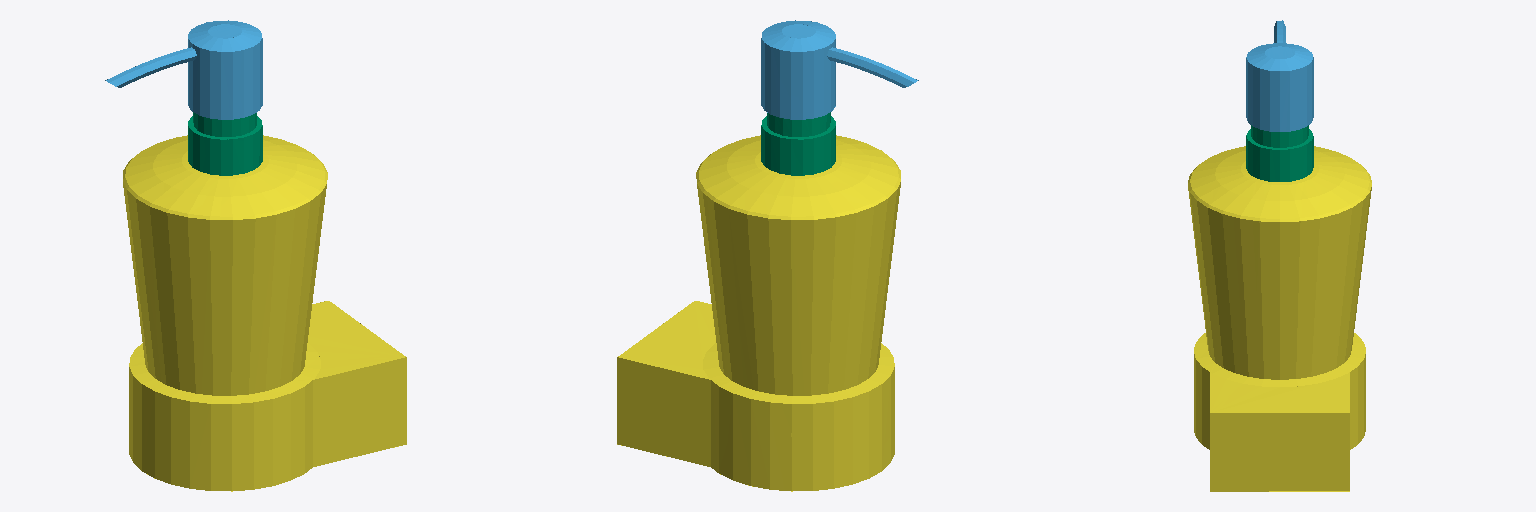
The robot description file, URDF, robot "partnet_e6676d26-1fb8-4e3b-a013-5a1d52decc9b":
<?xml version="1.0" ?>
<robot name="partnet_e6676d26-1fb8-4e3b-a013-5a1d52decc9b">
	<link name="base"/>
	<link name="link_0">
		<visual name="pressing_lid-1">
			<origin xyz="0.0023859999999999992 0 -0.054397"/>
			<geometry>
				<mesh filename="textured_objs/original_3.obj"/>
			</geometry>
		</visual>
		<visual name="pressing_lid-1">
			<origin xyz="0.0023859999999999992 0 -0.054397"/>
			<geometry>
				<mesh filename="textured_objs/original_4.obj"/>
			</geometry>
		</visual>
		<collision>
			<origin xyz="0.0023859999999999992 0 -0.054397"/>
			<geometry>
				<mesh filename="textured_objs/original_3.obj"/>
			</geometry>
		</collision>
		<collision>
			<origin xyz="0.0023859999999999992 0 -0.054397"/>
			<geometry>
				<mesh filename="textured_objs/original_4.obj"/>
			</geometry>
		</collision>
	</link>
	<joint name="joint_0" type="continuous">
		<origin xyz="0.0 0 0.0"/>
		<axis xyz="0 1 0"/>
		<child link="link_0"/>
		<parent link="link_0_helper"/>
	</joint>
	<link name="link_1">
		<visual name="head-3">
			<origin xyz="0.002386499999999986 0 -0.054397500000000015"/>
			<geometry>
				<mesh filename="textured_objs/original_6.obj"/>
			</geometry>
		</visual>
		<visual name="head-3">
			<origin xyz="0.002386499999999986 0 -0.054397500000000015"/>
			<geometry>
				<mesh filename="textured_objs/original_5.obj"/>
			</geometry>
		</visual>
		<collision>
			<origin xyz="0.002386499999999986 0 -0.054397500000000015"/>
			<geometry>
				<mesh filename="textured_objs/original_6.obj"/>
			</geometry>
		</collision>
		<collision>
			<origin xyz="0.002386499999999986 0 -0.054397500000000015"/>
			<geometry>
				<mesh filename="textured_objs/original_5.obj"/>
			</geometry>
		</collision>
	</link>
	<joint name="joint_1" type="continuous">
		<origin xyz="0.0 0 0.0"/>
		<axis xyz="0 -1 0"/>
		<child link="link_1"/>
		<parent link="link_1_helper"/>
	</joint>
	<link name="link_2">
		<visual name="base_body-4">
			<origin xyz="0 0 0"/>
			<geometry>
				<mesh filename="textured_objs/original_8.obj"/>
			</geometry>
		</visual>
		<visual name="base_body-4">
			<origin xyz="0 0 0"/>
			<geometry>
				<mesh filename="textured_objs/original_9.obj"/>
			</geometry>
		</visual>
		<visual name="base_body-4">
			<origin xyz="0 0 0"/>
			<geometry>
				<mesh filename="textured_objs/original_7.obj"/>
			</geometry>
		</visual>
		<visual name="base_body-4">
			<origin xyz="0 0 0"/>
			<geometry>
				<mesh filename="textured_objs/original_1.obj"/>
			</geometry>
		</visual>
		<visual name="base_body-4">
			<origin xyz="0 0 0"/>
			<geometry>
				<mesh filename="textured_objs/original_10.obj"/>
			</geometry>
		</visual>
		<collision>
			<origin xyz="0 0 0"/>
			<geometry>
				<mesh filename="textured_objs/original_8.obj"/>
			</geometry>
		</collision>
		<collision>
			<origin xyz="0 0 0"/>
			<geometry>
				<mesh filename="textured_objs/original_9.obj"/>
			</geometry>
		</collision>
		<collision>
			<origin xyz="0 0 0"/>
			<geometry>
				<mesh filename="textured_objs/original_7.obj"/>
			</geometry>
		</collision>
		<collision>
			<origin xyz="0 0 0"/>
			<geometry>
				<mesh filename="textured_objs/original_1.obj"/>
			</geometry>
		</collision>
		<collision>
			<origin xyz="0 0 0"/>
			<geometry>
				<mesh filename="textured_objs/original_10.obj"/>
			</geometry>
		</collision>
	</link>
	<joint name="joint_2" type="fixed">
		<origin rpy="1.570796326794897 0 -1.570796326794897" xyz="0 0 0"/>
		<child link="link_2"/>
		<parent link="base"/>
	</joint>
	<link name="link_0_helper">
		<inertial>
			<origin xyz="0 0 0"/>
			<mass value="1e-6"/>
			<inertia ixx="1e-10" ixy="0" ixz="0" iyy="1e-10" iyz="0" izz="1e-10"/>
		</inertial>
	</link>
	<joint name="joint_3" type="prismatic">
		<origin xyz="4.999999999866223e-07 0 -5.000000000143778e-07"/>
		<axis xyz="0 -1 0"/>
		<child link="link_0_helper"/>
		<parent link="link_1"/>
		<limit lower="0" upper="0.07"/>
	</joint>
	<link name="link_1_helper">
		<inertial>
			<origin xyz="0 0 0"/>
			<mass value="1e-6"/>
			<inertia ixx="1e-10" ixy="0" ixz="0" iyy="1e-10" iyz="0" izz="1e-10"/>
		</inertial>
	</link>
	<joint name="joint_4" type="prismatic">
		<origin xyz="-0.002386499999999986 0 0.054397500000000015"/>
		<axis xyz="0 1 0"/>
		<child link="link_1_helper"/>
		<parent link="link_2"/>
		<limit lower="0" upper="0.036"/>
	</joint>
</robot>

--- Facts derived from the render (not from the file) ---
The picture shows the robot from 3 angles, left to right: view 1: azimuth 30°, elevation 25°; view 2: azimuth 150°, elevation 25°; view 3: azimuth 270°, elevation 25°; orthographic projection.
Robot: partnet_e6676d26-1fb8-4e3b-a013-5a1d52decc9b — 6 links, 5 joints (2 continuous, 2 prismatic, 1 fixed); root link base; default pose: every joint at zero.
Visible links, largest first — view 1: link_2, link_0, link_1; view 2: link_2, link_0, link_1; view 3: link_2, link_0, link_1.
Boxes of the visible links, x1=… form: link_2: x1=123, y1=135, x2=406, y2=491; link_0: x1=105, y1=20, x2=262, y2=119; link_1: x1=188, y1=112, x2=262, y2=175; link_2: x1=617, y1=135, x2=900, y2=491; link_0: x1=761, y1=20, x2=918, y2=119; link_1: x1=761, y1=112, x2=835, y2=175; link_2: x1=1188, y1=146, x2=1371, y2=491; link_0: x1=1246, y1=20, x2=1313, y2=131; link_1: x1=1246, y1=125, x2=1313, y2=181.
Bounding box of the posed robot: 0.9584 × 0.6561 × 1.47 m (x, y, z).
9 mesh visuals loaded from 9 distinct referenced files (9 OBJ).
